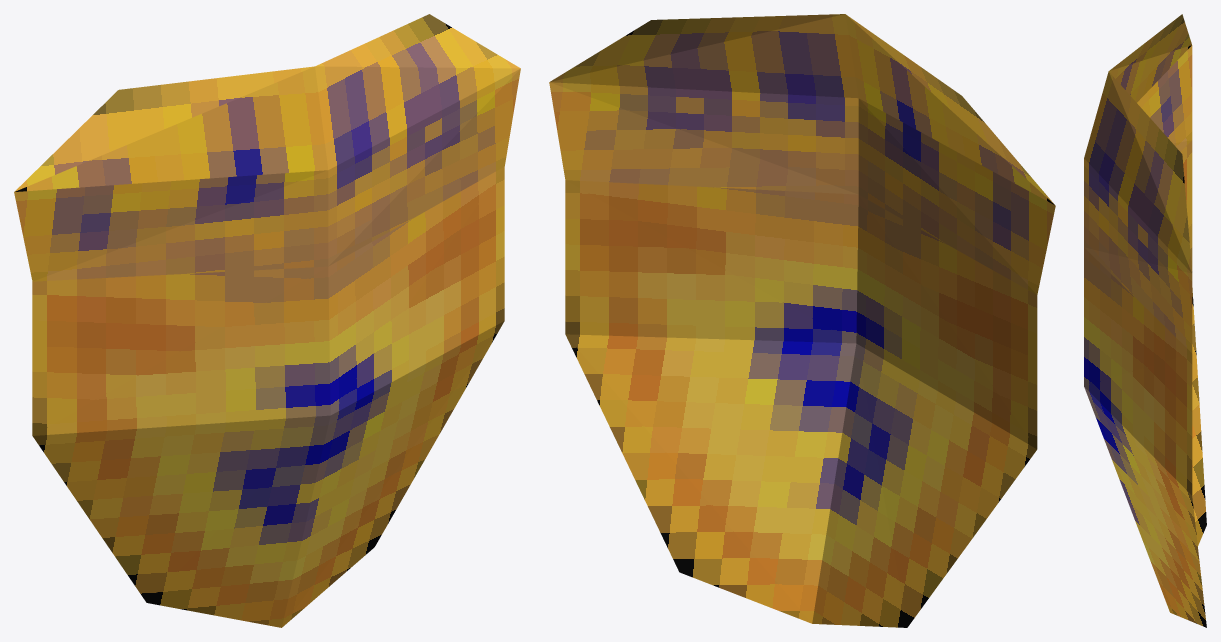
3 renders of one model, left to right at view 1: azimuth 30°, elevation 25°; view 2: azimuth 150°, elevation 25°; view 3: azimuth 270°, elevation 25°, orthographic. The views are drawn at different scales.
Parts seen in each view (by area): view 1: Hk_obj_026; view 2: Hk_obj_026; view 3: Hk_obj_026.
Boxes of the visible parts, x1=… form: Hk_obj_026: x1=14, y1=14, x2=520, y2=627; Hk_obj_026: x1=549, y1=14, x2=1055, y2=627; Hk_obj_026: x1=1084, y1=14, x2=1206, y2=627.
Size of the model in its own units: 0.4297 by 0.4746 by 0.0977.
Materials: 1 (1 with a texture image).
